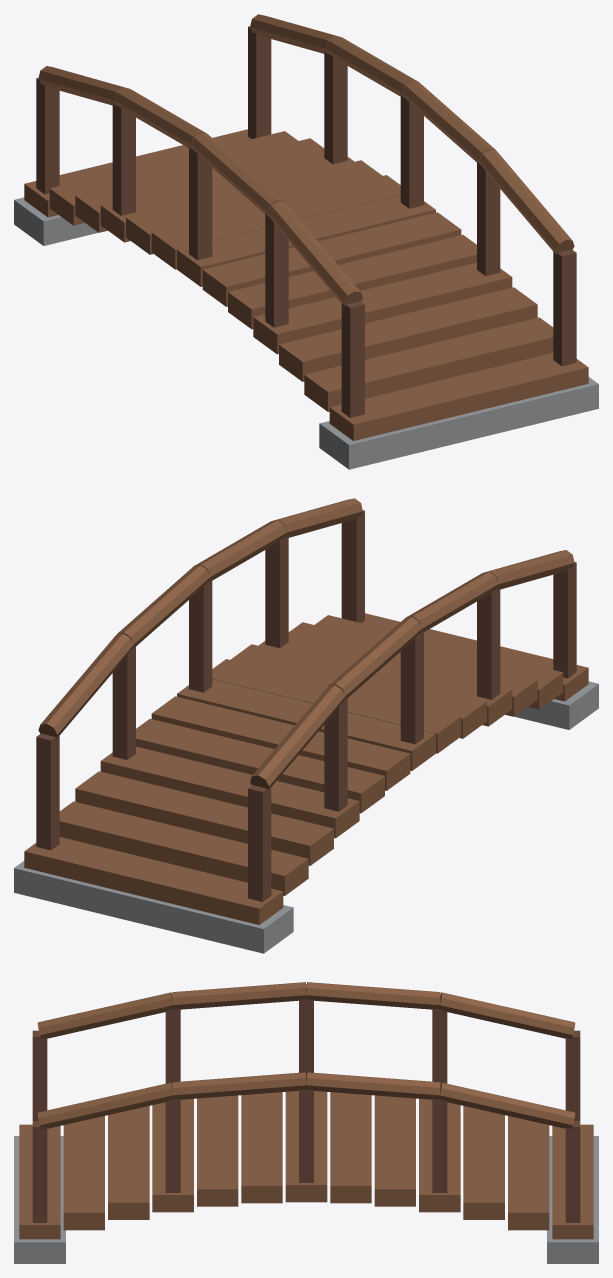
The model's file is bridge.glb.
The picture shows the model from 3 angles, top to bottom: view 1: azimuth 30°, elevation 25°; view 2: azimuth 150°, elevation 25°; view 3: azimuth 270°, elevation 25°; orthographic projection. The views are drawn at different scales.
Visible parts, largest first — view 1: deck_plank, deck_plank.001, deck_plank.002, footing, deck_plank.003, deck_plank.004, deck_plank.005, deck_plank.006, deck_plank.007, deck_plank.008, deck_plank.009, deck_plank.010 (+21 smaller); view 2: deck_plank.012, deck_plank.011, deck_plank.010, footing.001, deck_plank.009, deck_plank.008, deck_plank.007, deck_plank.006, deck_plank.005, deck_plank.004, deck_plank.003, deck_plank.002 (+21 smaller); view 3: deck_plank.001, deck_plank.011, deck_plank.005, deck_plank.007, deck_plank.004, deck_plank.008, deck_plank.002, deck_plank.010, deck_plank, deck_plank.012, deck_plank.006, deck_plank.003 (+21 smaller).
Boxes of the visible parts, x1,y1,x2,y2 form: deck_plank: [329, 353, 588, 440]; deck_plank.001: [304, 317, 553, 411]; deck_plank.002: [279, 287, 537, 381]; footing: [319, 377, 598, 469]; deck_plank.003: [253, 262, 512, 354]; deck_plank.004: [228, 235, 476, 329]; deck_plank.005: [202, 212, 461, 306]; deck_plank.006: [177, 195, 435, 286]; deck_plank.007: [151, 175, 400, 269]; deck_plank.008: [126, 160, 382, 254]; deck_plank.009: [100, 151, 354, 242]; deck_plank.010: [75, 138, 324, 232]; deck_plank.012: [24, 837, 283, 924]; deck_plank.011: [59, 801, 308, 895]; deck_plank.010: [75, 771, 333, 865]; footing.001: [14, 861, 293, 953]; deck_plank.009: [100, 746, 359, 838]; deck_plank.008: [136, 719, 384, 813]; deck_plank.007: [151, 696, 410, 790]; deck_plank.006: [177, 679, 435, 770]; deck_plank.005: [212, 659, 461, 753]; deck_plank.004: [230, 644, 486, 738]; deck_plank.003: [258, 635, 512, 726]; deck_plank.002: [288, 622, 537, 716]; deck_plank.001: [63, 1116, 104, 1230]; deck_plank.011: [508, 1116, 549, 1230]; deck_plank.005: [241, 1092, 282, 1203]; deck_plank.007: [330, 1092, 371, 1203]; deck_plank.004: [197, 1095, 238, 1206]; deck_plank.008: [374, 1095, 415, 1206]; deck_plank.002: [108, 1106, 149, 1219]; deck_plank.010: [463, 1106, 504, 1219]; deck_plank: [19, 1124, 60, 1239]; deck_plank.012: [552, 1124, 593, 1239]; deck_plank.006: [285, 1091, 327, 1202]; deck_plank.003: [152, 1098, 193, 1212].
Size of the model in its own units: 1.7 by 1.36 by 3.95.
